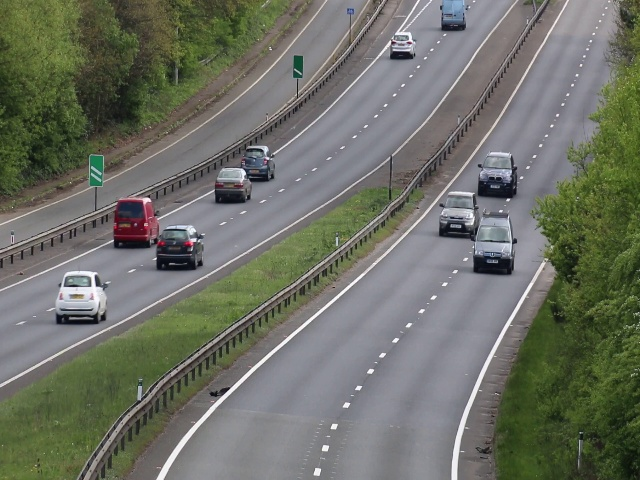car: (52, 269, 110, 324), (473, 210, 516, 275), (113, 193, 159, 249), (436, 187, 481, 239), (157, 225, 204, 271), (476, 149, 520, 198), (214, 166, 253, 205), (239, 144, 277, 181), (437, 1, 470, 31), (388, 29, 418, 60)
